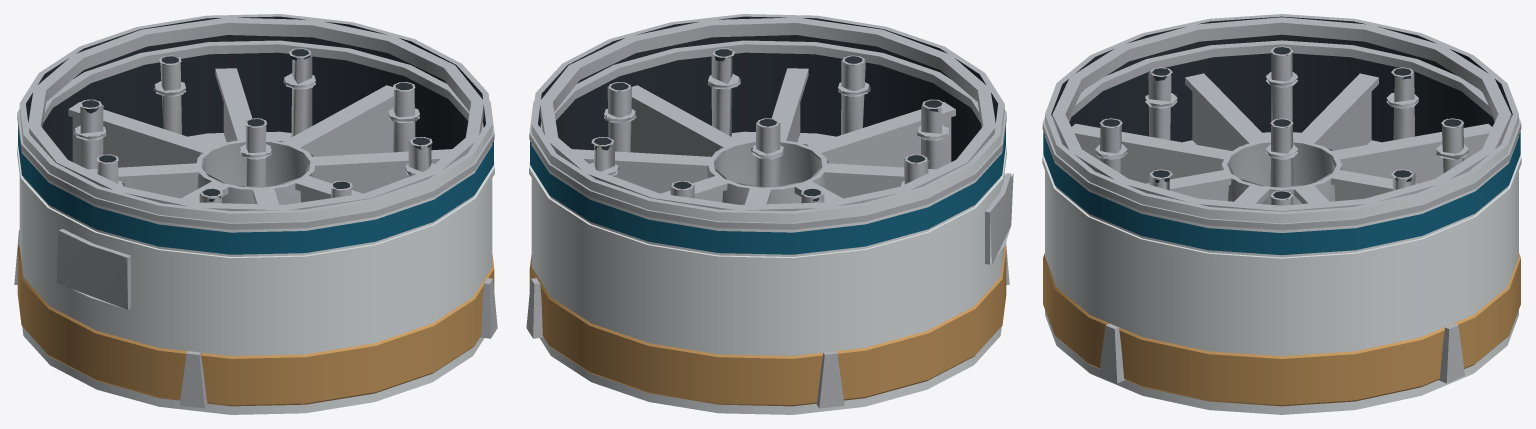
File: mount_s1_9_d15.glb
The picture shows the model from 3 angles, left to right: view 1: azimuth 30°, elevation 25°; view 2: azimuth 150°, elevation 25°; view 3: azimuth 270°, elevation 25°; orthographic projection.
Parts seen in each view (by area): view 1: mount_s1_9_d15_mesh; view 2: mount_s1_9_d15_mesh; view 3: mount_s1_9_d15_mesh.
Boxes of the visible parts, <box> form: mount_s1_9_d15_mesh: <box>14,14,497,414</box>; mount_s1_9_d15_mesh: <box>526,14,1013,414</box>; mount_s1_9_d15_mesh: <box>1042,14,1521,414</box>.
Size of the model in its own units: 1.53 by 0.7 by 1.52.
